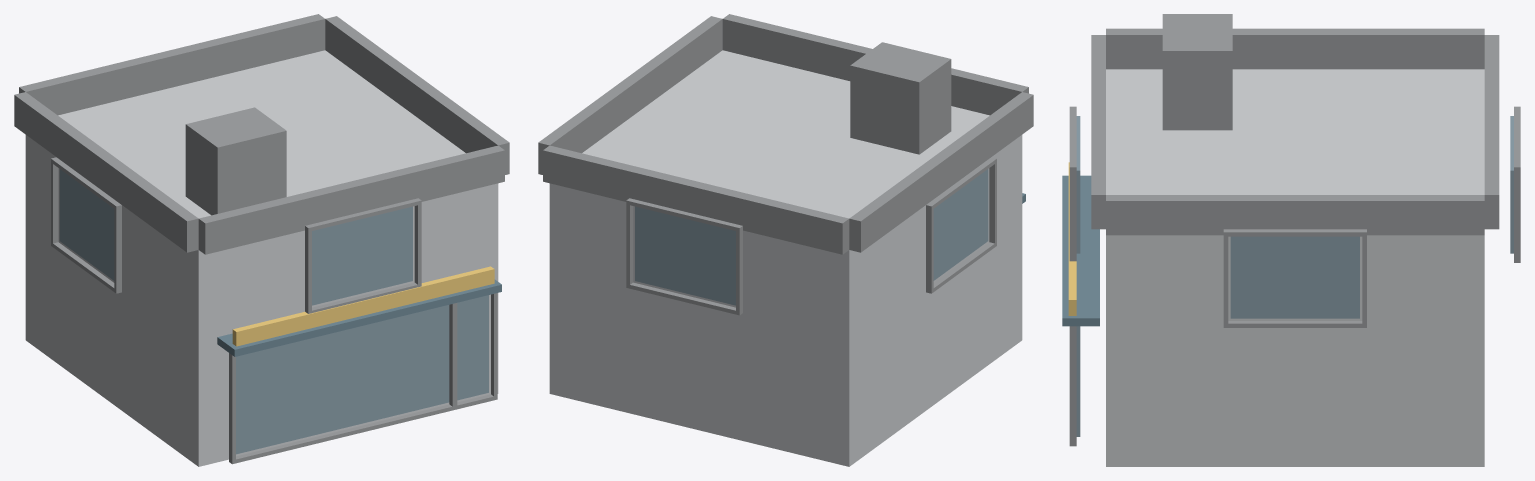
File: commercial_1x1_a.glb
3 views of the same model, side by side, from view 1: azimuth 30°, elevation 25°; view 2: azimuth 150°, elevation 25°; view 3: azimuth 270°, elevation 25° (orthographic). The views are drawn at different scales.
Parts seen in each view (by area): view 1: commercial_1x1_a_0; view 2: commercial_1x1_a_0; view 3: commercial_1x1_a_0.
Part boxes in pixels (box(x1,y1,x2,y2)): commercial_1x1_a_0: box(14, 14, 509, 466); commercial_1x1_a_0: box(538, 14, 1033, 466); commercial_1x1_a_0: box(1062, 14, 1520, 466).
Bounding box in the file's own units: 7.74 × 6 × 7.87.
